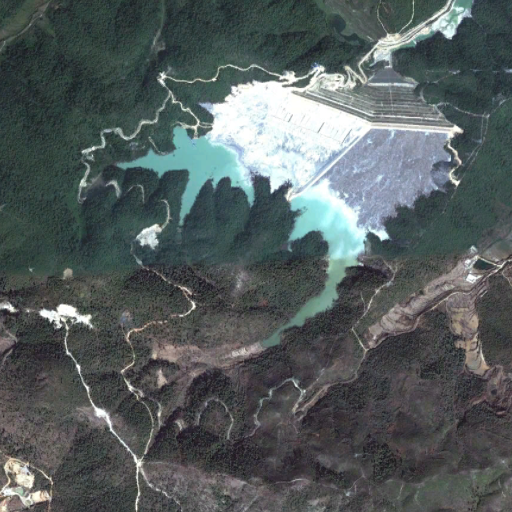tp: (117, 66, 462, 349)
